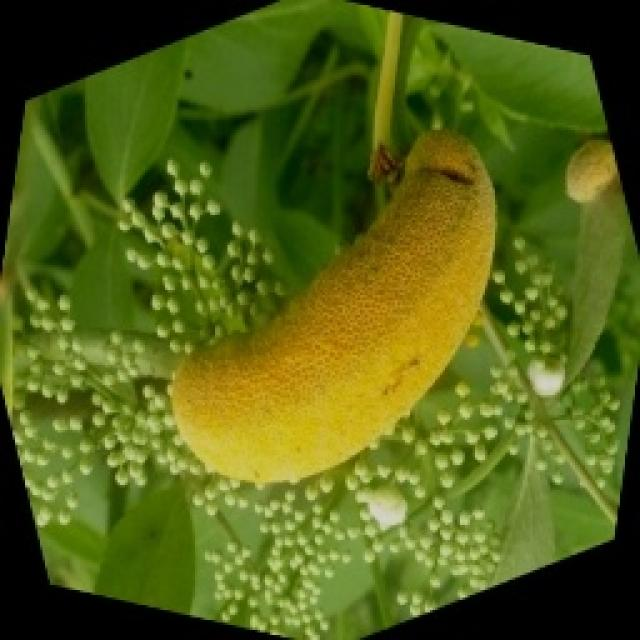Elderberry_rust: (165, 125, 500, 485)
